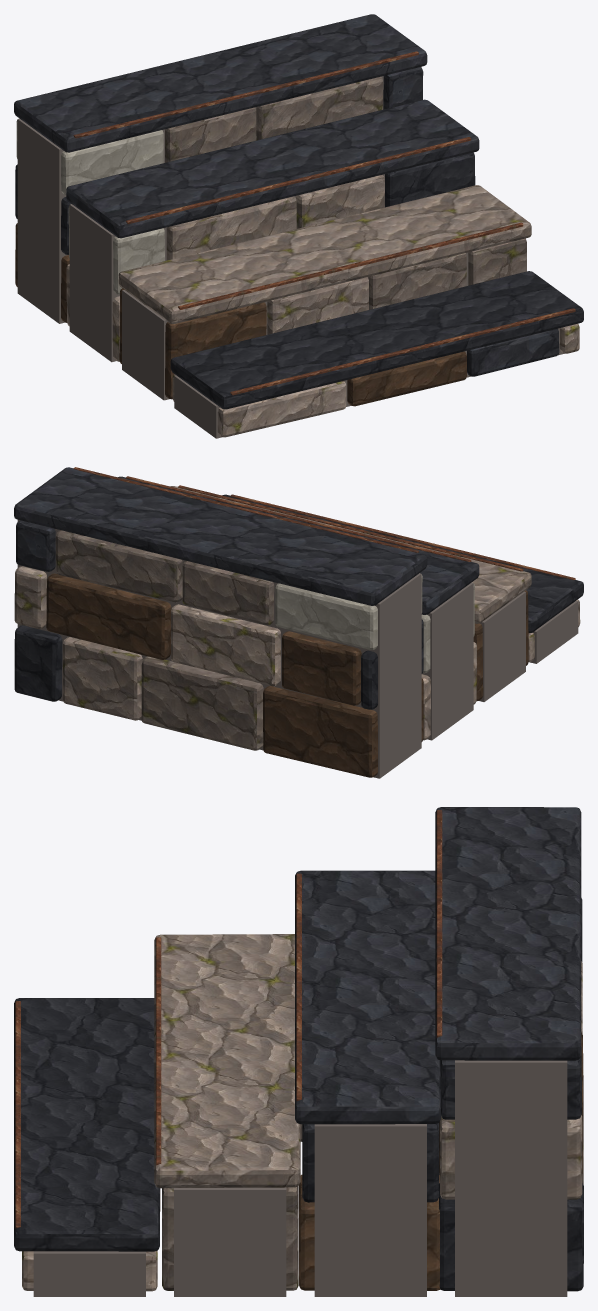
Rendered from foundation_steps__cut_stone.glb.
3 renders of one model, top to bottom at view 1: azimuth 30°, elevation 25°; view 2: azimuth 150°, elevation 25°; view 3: azimuth 270°, elevation 25°, orthographic. The views are drawn at different scales.
Visible parts, largest first — view 1: model; view 2: model; view 3: model.
Boxes of the visible parts, box(x1,y1,x2,y2) form: model: box(14, 14, 583, 438); model: box(14, 467, 583, 778); model: box(14, 807, 583, 1296).
Size of the model in its own units: 2 by 1 by 2.03.
10 materials, 9 textured.
